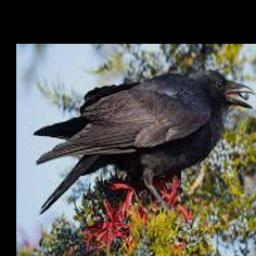Crow: (35, 71, 256, 216)
